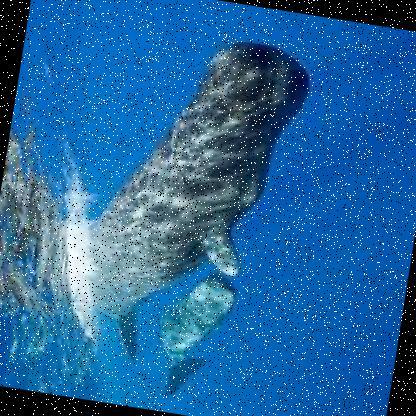sperm_whale: (55, 4, 337, 346), (142, 272, 278, 394)
